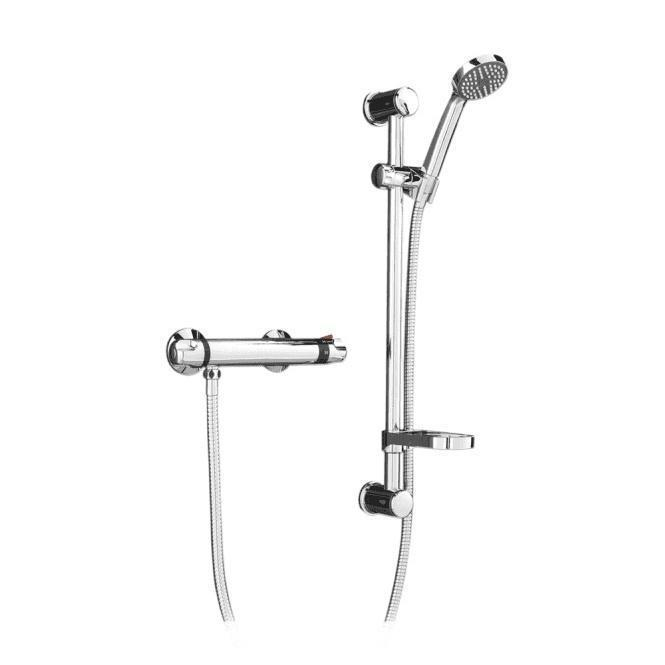Ducha: (166, 45, 542, 611)
